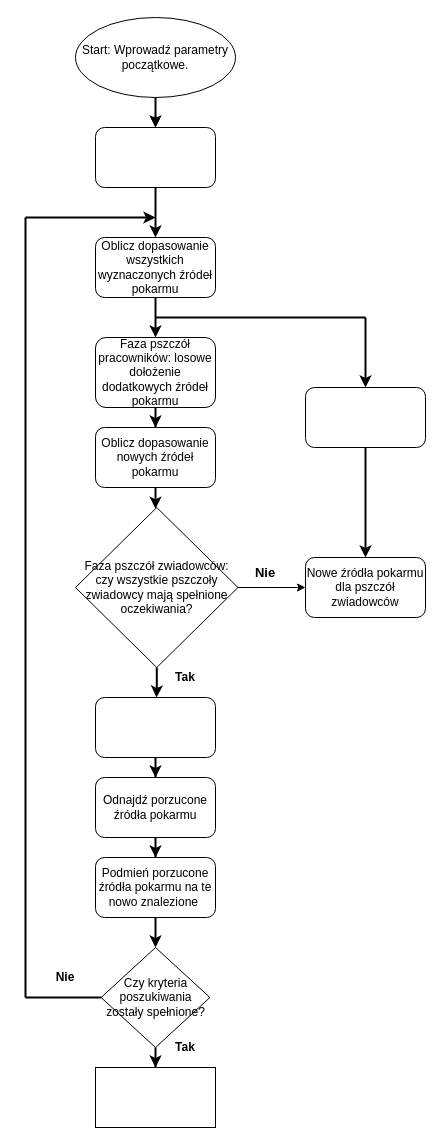
This 443x1145 diagram has some shape labels left out. Here are the shapes that lost their labels. From the top down, the centre of each, then its label:
At (x=155, y=157): "Zainicjuj sztucznie źródła pokarmu".
At (x=365, y=417): "Określ źródła pokarmu w sąsiedztwie".
At (x=155, y=727): "Zachowaj pozycję najlepszych źródeł pokarmu do tego momentu".
At (x=155, y=1097): "Wyświetl optymalne rozwiązanie".
